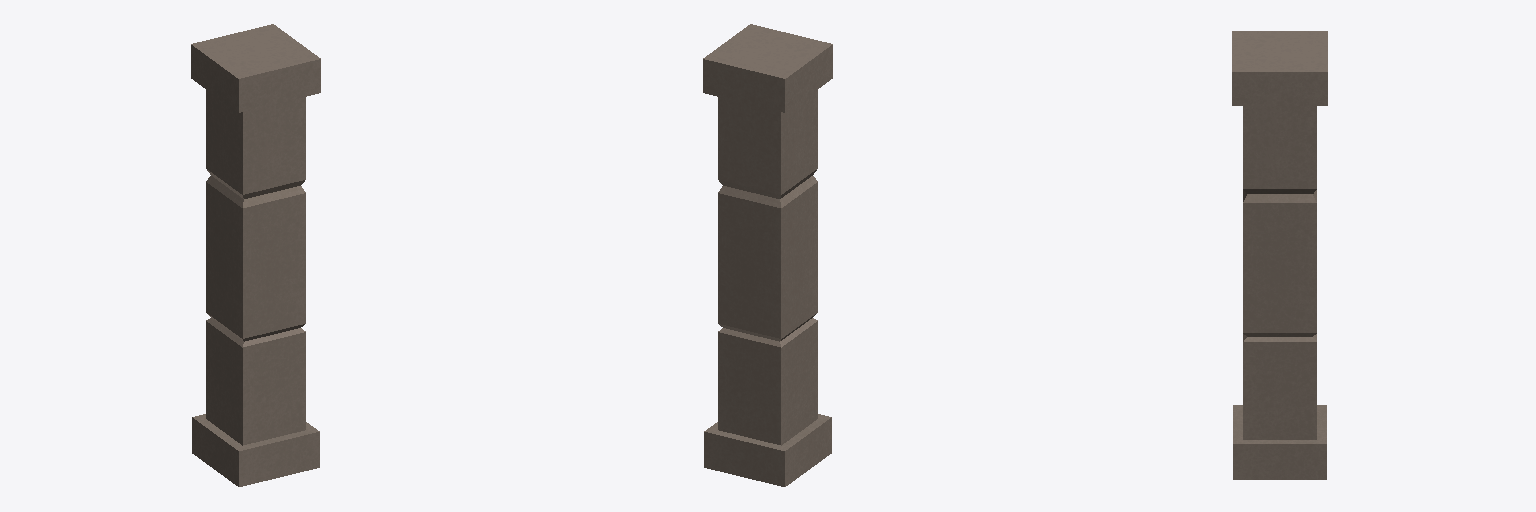
3 views of the same model, side by side, from view 1: azimuth 30°, elevation 25°; view 2: azimuth 150°, elevation 25°; view 3: azimuth 270°, elevation 25° (orthographic).
Parts seen in each view (by area): view 1: pillar_pillar; view 2: pillar_pillar; view 3: pillar_pillar.
Part boxes in pixels (bbox=[...]): pillar_pillar: bbox=[191, 24, 320, 486]; pillar_pillar: bbox=[703, 24, 832, 486]; pillar_pillar: bbox=[1232, 31, 1327, 479].
Bounding box in the file's own units: 2.99 × 14.13 × 2.99.
Materials: 1 (1 with a texture image).